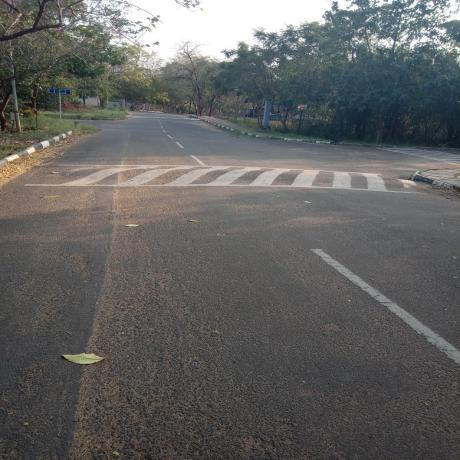Speed Bump: (28, 164, 434, 194)
